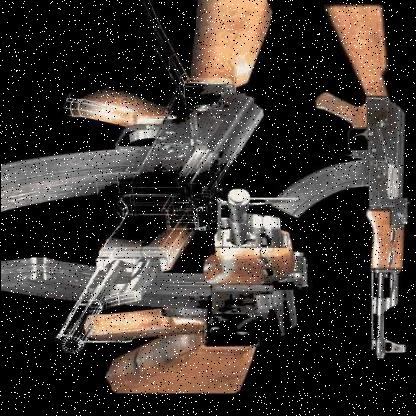rifle: (270, 0, 415, 381)
